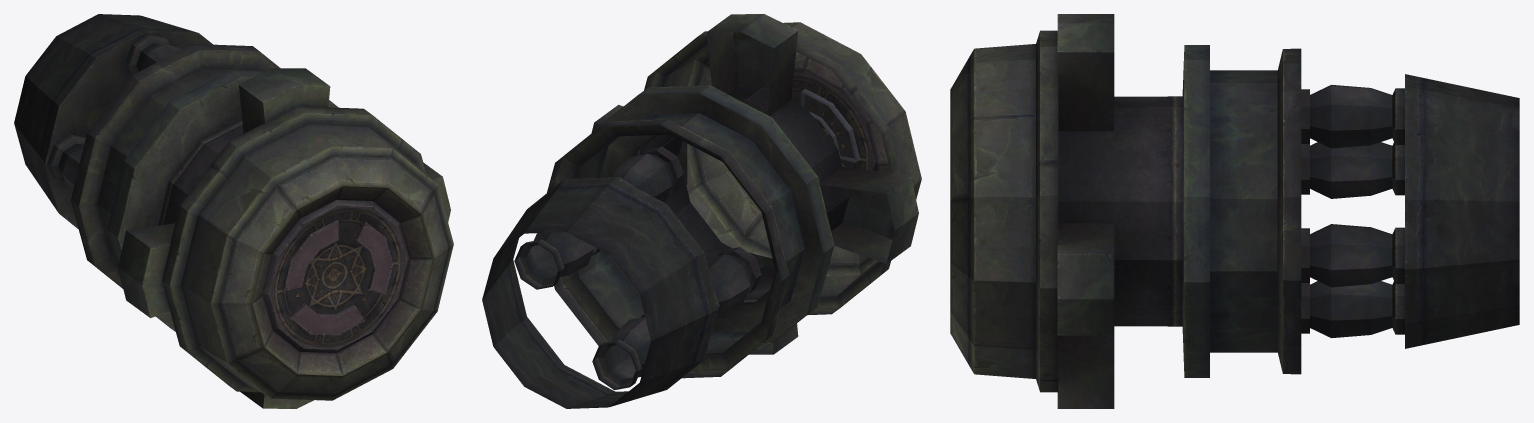
Rendered from shenjie_dongxue_374_zhuzi02.obj.
The picture shows the model from 3 angles, left to right: view 1: azimuth 30°, elevation 25°; view 2: azimuth 150°, elevation 25°; view 3: azimuth 270°, elevation 25°; orthographic projection. The views are drawn at different scales.
Visible parts, largest first — view 1: shenjie_dongxue_374_zhuzi02; view 2: shenjie_dongxue_374_zhuzi02; view 3: shenjie_dongxue_374_zhuzi02.
Boxes of the visible parts, x1,y1,x2,y2 form: shenjie_dongxue_374_zhuzi02: (14, 14, 453, 408); shenjie_dongxue_374_zhuzi02: (482, 14, 921, 408); shenjie_dongxue_374_zhuzi02: (950, 14, 1519, 408).
Size of the model in its own units: 400 by 400 by 549.
3 materials, 3 textured.
